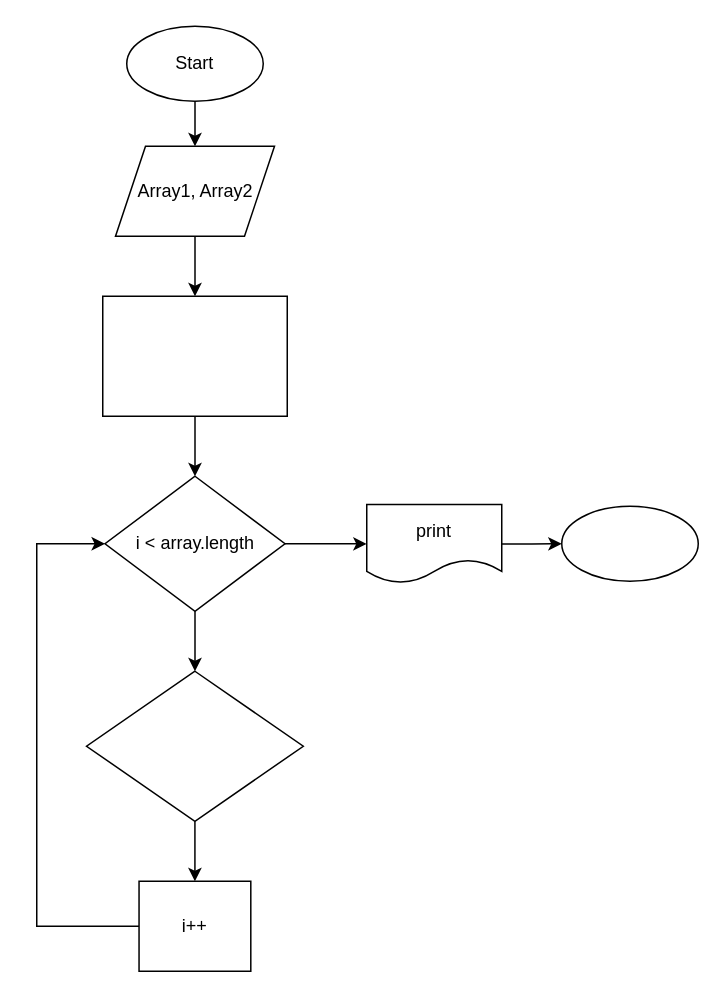
This 725x998 diagram has some shape labels left out. The shapes that lost their labels are listed below. From the top down, each one's box as (x1, y1, x2, y2) in pixels, then its label:
(101, 295, 287, 416): Array1, Array2, n<=3; count = 0; i = 0
(560, 505, 698, 581): Finish
(85, 670, 303, 821): array1[i].length <= 3
